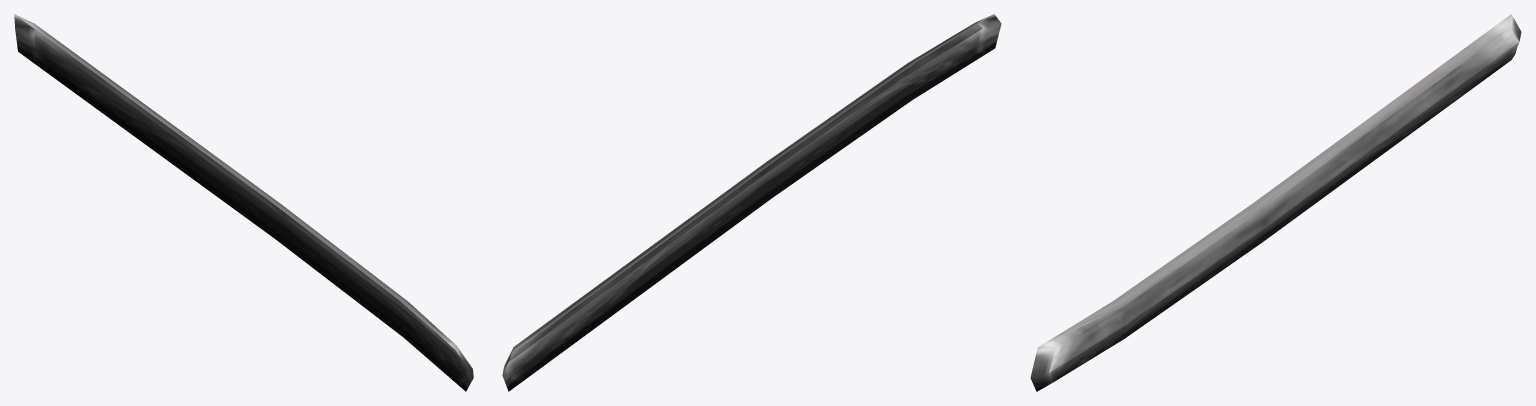
The picture shows the model from 3 angles, left to right: view 1: azimuth 30°, elevation 25°; view 2: azimuth 150°, elevation 25°; view 3: azimuth 330°, elevation 25°; orthographic projection. The views are drawn at different scales.
Visible parts, largest first — view 1: wg_r_lr_t1; view 2: wg_r_lr_t1; view 3: wg_r_lr_t1.
Part boxes in pixels (x1,y1,x2,y2): wg_r_lr_t1: (14, 14, 473, 391); wg_r_lr_t1: (502, 14, 1001, 391); wg_r_lr_t1: (1030, 14, 1521, 391).
Size of the model in its own units: 0.0726 by 0.0974 by 2.15.
1 material, 1 textured.
